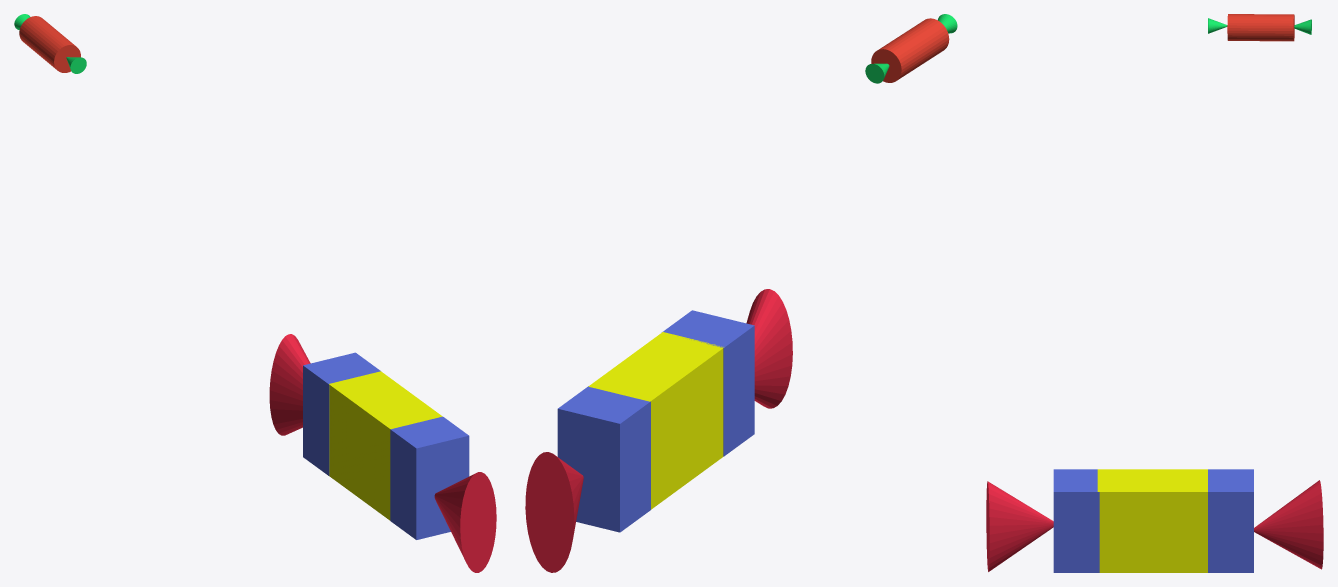
Rendered from candy.fbx.
3 views of the same model, side by side, from view 1: azimuth 30°, elevation 25°; view 2: azimuth 150°, elevation 25°; view 3: azimuth 270°, elevation 25° (orthographic). The views are drawn at different scales.
Parts seen in each view (by area): view 1: Cube, Cube.001, Cone, Cube.002, Cone.001, Cylinder; view 2: Cube, Cube.002, Cube.001, Cone.001, Cone, Cylinder; view 3: Cube, Cube.001, Cube.002, Cone.001, Cone, Cylinder.
Part boxes in pixels (x1,y1,x2,y2): Cube: [329, 371, 442, 520]; Cube.001: [390, 416, 469, 539]; Cone: [434, 472, 496, 572]; Cube.002: [303, 352, 380, 475]; Cone.001: [269, 334, 310, 435]; Cylinder: [19, 16, 80, 72]; Cube: [588, 332, 724, 509]; Cube.002: [557, 386, 650, 532]; Cube.001: [661, 310, 754, 456]; Cone.001: [525, 452, 583, 572]; Cone: [746, 289, 792, 408]; Cylinder: [871, 18, 949, 82]; Cube: [1097, 469, 1207, 572]; Cube.001: [1053, 469, 1099, 572]; Cube.002: [1208, 469, 1253, 572]; Cone.001: [1254, 480, 1323, 569]; Cone: [986, 481, 1053, 571]; Cylinder: [1227, 14, 1294, 41].
Size of the model in its own units: 405 by 608 by 424.
